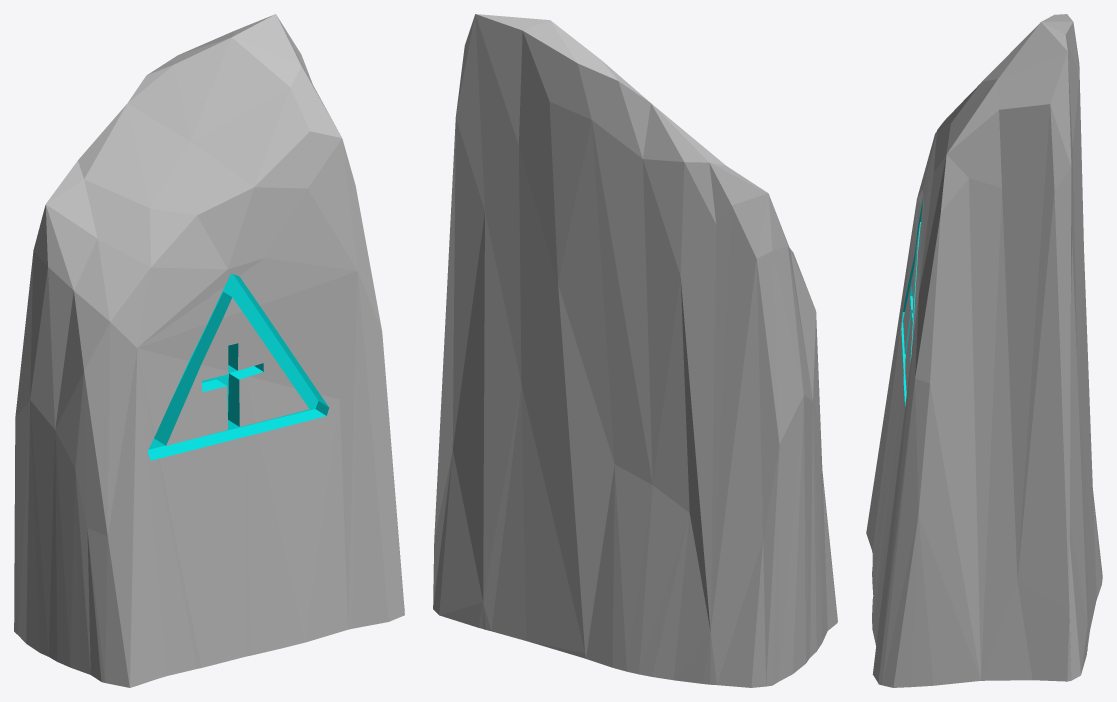
File: Rock_Prop_Tribal_Stone_Altar_Rune_04.FBX
3 renders of one model, left to right at view 1: azimuth 30°, elevation 25°; view 2: azimuth 150°, elevation 25°; view 3: azimuth 270°, elevation 25°, orthographic. The views are drawn at different scales.
Parts seen in each view (by area): view 1: Rock_Prop_Tribal_Stone_Altar_Rune_04; view 2: Rock_Prop_Tribal_Stone_Altar_Rune_04; view 3: Rock_Prop_Tribal_Stone_Altar_Rune_04.
Boxes of the visible parts, box(x1,y1,x2,y2) form: Rock_Prop_Tribal_Stone_Altar_Rune_04: box(14, 14, 404, 687); Rock_Prop_Tribal_Stone_Altar_Rune_04: box(433, 14, 837, 687); Rock_Prop_Tribal_Stone_Altar_Rune_04: box(866, 14, 1102, 687).
Bounding box in the file's own units: 1397 × 2276 × 800.
